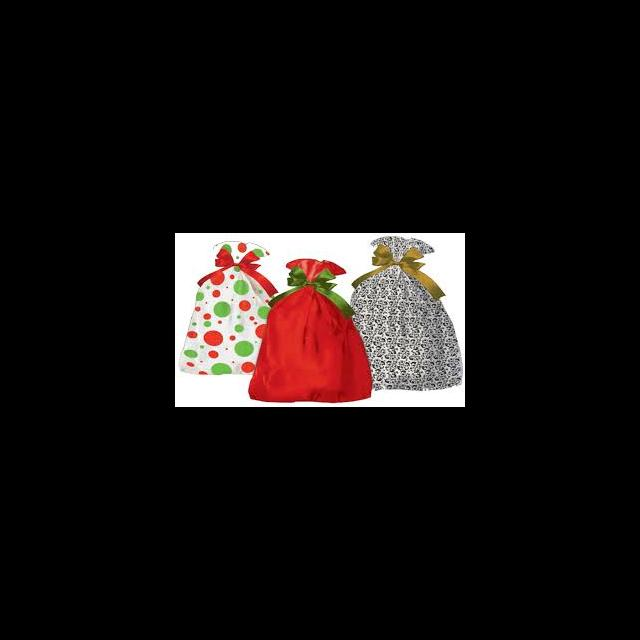plastic: (247, 258, 370, 402), (347, 235, 462, 389), (178, 240, 277, 373)
